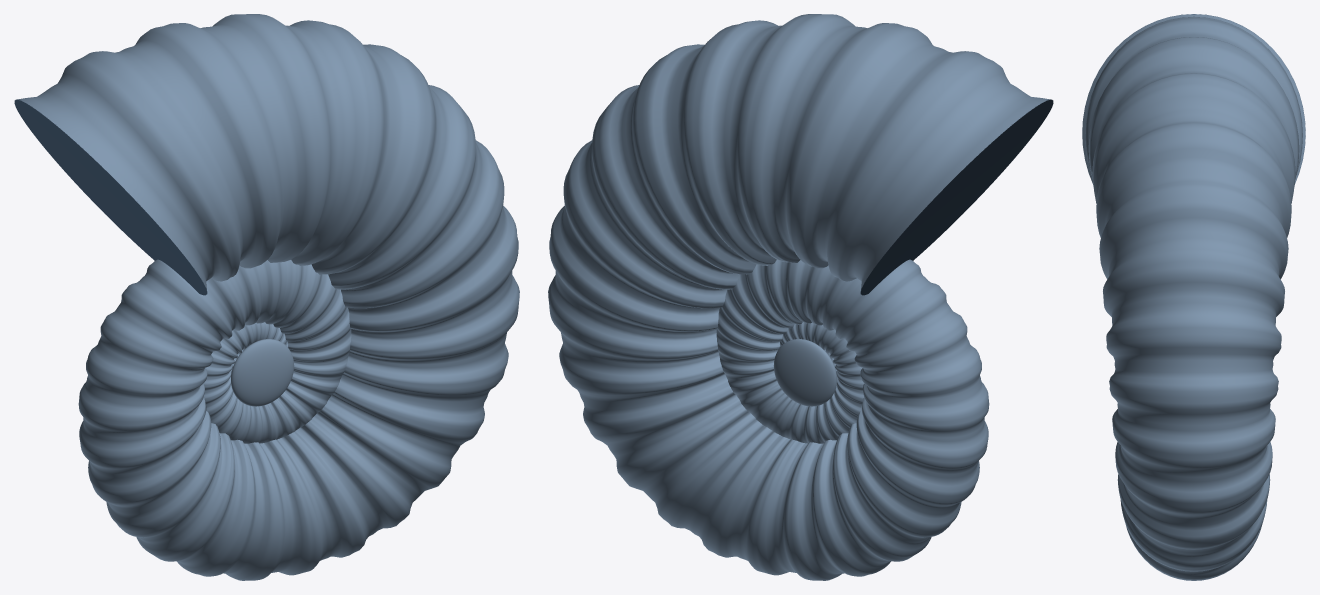
Rendered from ammonite.glb.
3 views of the same model, side by side, from view 1: azimuth 30°, elevation 25°; view 2: azimuth 150°, elevation 25°; view 3: azimuth 270°, elevation 25° (orthographic). The views are drawn at different scales.
Visible parts, largest first — view 1: shell_whorls, aperture, umbilicus_front; view 2: shell_whorls, aperture, umbilicus_back; view 3: shell_whorls.
Part boxes in pixels (left/top/right/bottom): shell_whorls: left=17, top=14, right=519, bottom=580; aperture: left=14, top=99, right=207, bottom=295; umbilicus_front: left=231, top=339, right=294, bottom=406; shell_whorls: left=548, top=14, right=1050, bottom=580; aperture: left=860, top=99, right=1053, bottom=295; umbilicus_back: left=773, top=339, right=836, bottom=406; shell_whorls: left=1082, top=14, right=1305, bottom=580.
Bounding box in the file's own units: 0.21 × 0.2392 × 0.1005.
